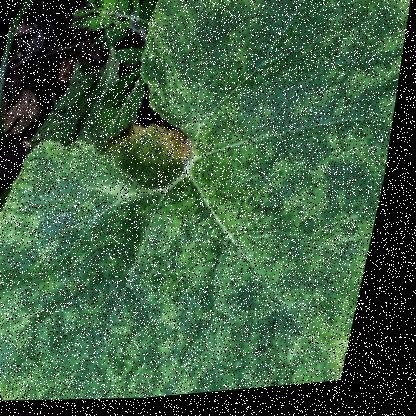CassavaMosaicDisease: (0, 128, 237, 413), (35, 194, 350, 398), (118, 0, 415, 201), (144, 164, 392, 402), (182, 0, 399, 117)
